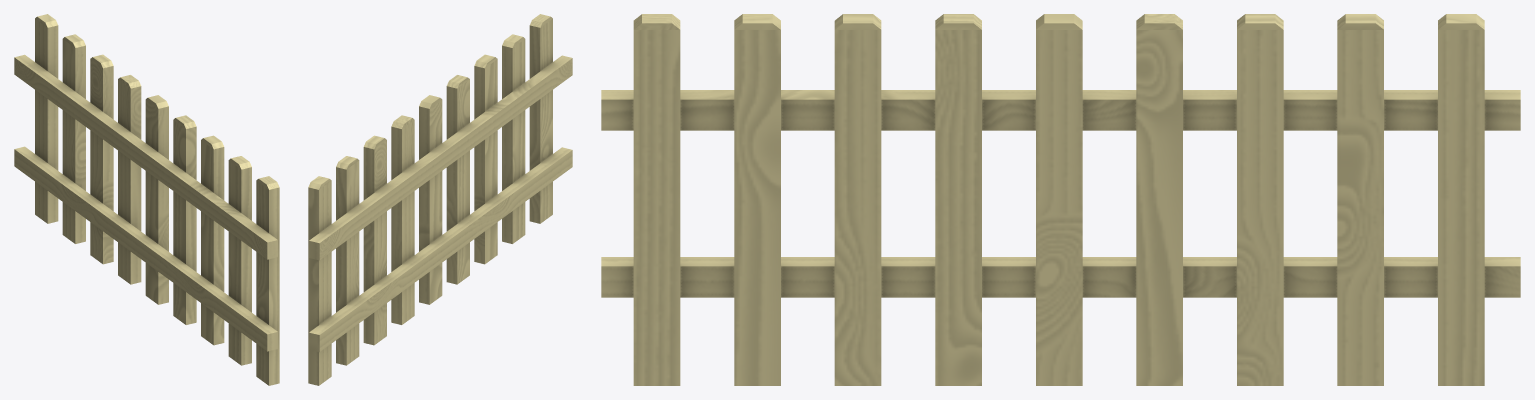
File: fence.glb
3 views of the same model, side by side, from view 1: azimuth 30°, elevation 25°; view 2: azimuth 150°, elevation 25°; view 3: azimuth 270°, elevation 25° (orthographic). The views are drawn at different scales.
Visible parts, largest first — view 1: PicketFence_mesh; view 2: PicketFence_mesh; view 3: PicketFence_mesh.
Part boxes in pixels (<box>): PicketFence_mesh: <box>14,14,279,385</box>; PicketFence_mesh: <box>308,14,572,385</box>; PicketFence_mesh: <box>601,14,1520,385</box>.
Bounding box in the file's own units: 0.9501 × 8.57 × 19.69.
Materials: 1 (1 with a texture image).
